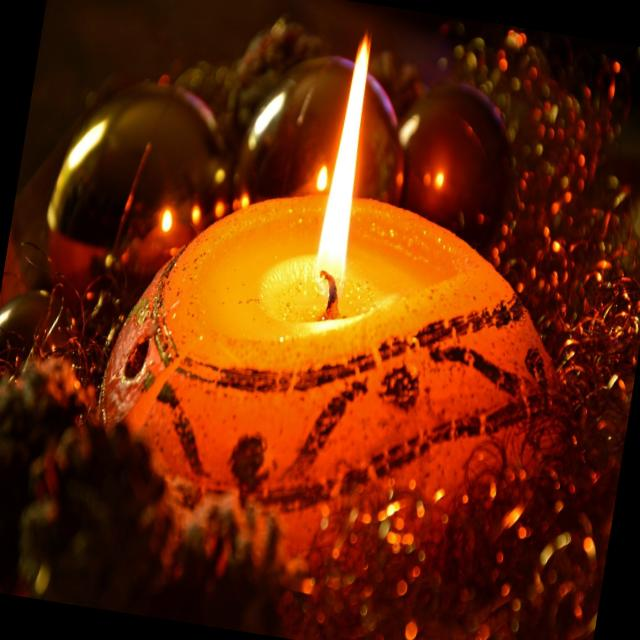Fire_Save: (62, 0, 640, 640)
